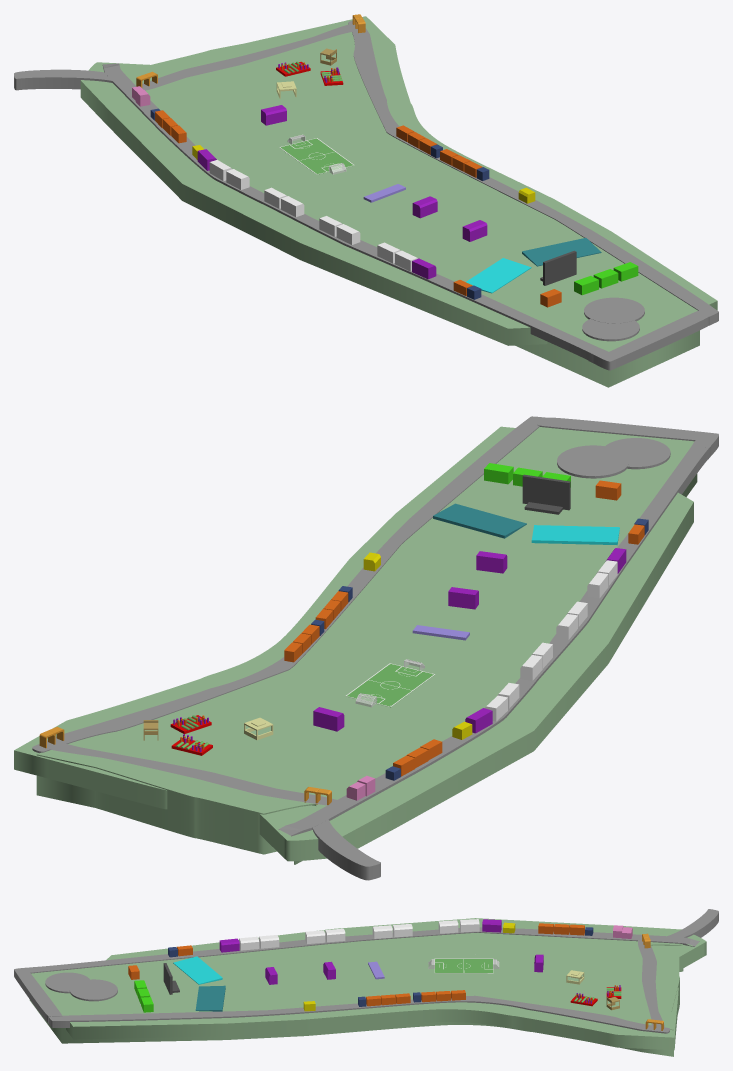
The model's file is plantareduzida.glb.
The picture shows the model from 3 angles, top to bottom: view 1: azimuth 30°, elevation 25°; view 2: azimuth 150°, elevation 25°; view 3: azimuth 270°, elevation 25°; orthographic projection. The views are drawn at different scales.
Parts seen in each view (by area): view 1: BézierCurve, BézierCurve.009, BézierCurve.010, BézierCurve.003, BézierCurve.007, BézierCurve.008, Cylinder, BézierCurve.004, Soccer Goal.019, BézierCurve.006, Cube.058, Cube.067 (+1 smaller); view 2: BézierCurve, BézierCurve.009, BézierCurve.010, BézierCurve.007, BézierCurve.003, Cylinder, BézierCurve.004, Soccer Goal.019, BézierCurve.008, BézierCurve.006, Cube.067, Cube.058 (+1 smaller); view 3: BézierCurve, BézierCurve.010, BézierCurve.007, BézierCurve.003, BézierCurve.009, Cylinder, Soccer Goal.019, BézierCurve.008, BézierCurve.004, Cube.058, Cube.067, BézierCurve.006 (+8 smaller).
Boxes of the visible parts, x1,y1,x2,y2 form: BézierCurve: [121, 20, 699, 387]; BézierCurve.009: [80, 62, 547, 345]; BézierCurve.010: [247, 16, 717, 310]; BézierCurve.003: [102, 63, 608, 362]; BézierCurve.007: [348, 20, 718, 325]; BézierCurve.008: [588, 310, 709, 370]; Cylinder: [582, 297, 644, 341]; BézierCurve.004: [135, 24, 354, 90]; Soccer Goal.019: [279, 134, 354, 174]; BézierCurve.006: [14, 69, 112, 90]; Cube.058: [466, 258, 531, 293]; Cube.067: [522, 238, 601, 266]; BézierCurve: [36, 427, 697, 864]; BézierCurve.009: [259, 492, 693, 861]; BézierCurve.010: [14, 426, 515, 809]; BézierCurve.007: [32, 416, 546, 753]; BézierCurve.003: [278, 440, 711, 836]; Cylinder: [557, 438, 670, 478]; BézierCurve.004: [48, 743, 340, 805]; Soccer Goal.019: [345, 659, 434, 707]; BézierCurve.008: [537, 417, 718, 459]; BézierCurve.006: [312, 819, 380, 880]; Cube.067: [433, 503, 526, 538]; Cube.058: [531, 525, 619, 545]; BézierCurve: [29, 932, 683, 1056]; BézierCurve.010: [66, 987, 678, 1050]; BézierCurve.007: [48, 995, 669, 1033]; BézierCurve.003: [30, 927, 699, 973]; BézierCurve.009: [106, 918, 706, 970]; Cylinder: [45, 972, 117, 1001]; Soccer Goal.019: [428, 958, 499, 973]; BézierCurve.008: [14, 967, 62, 1022]; BézierCurve.004: [638, 938, 664, 1027]; Cube.058: [173, 956, 222, 984]; Cube.067: [195, 985, 225, 1011]; BézierCurve.006: [667, 909, 718, 937].
Size of the model in its own units: 81.64 by 13.62 by 191.
